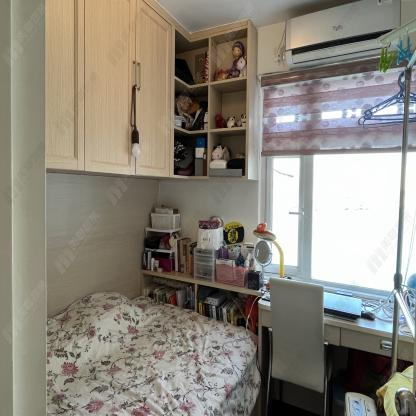AC: (285, 0, 402, 70)
Bed: (45, 296, 262, 416)
Cupboard: (44, 0, 259, 182)
Desk: (258, 276, 416, 364)
